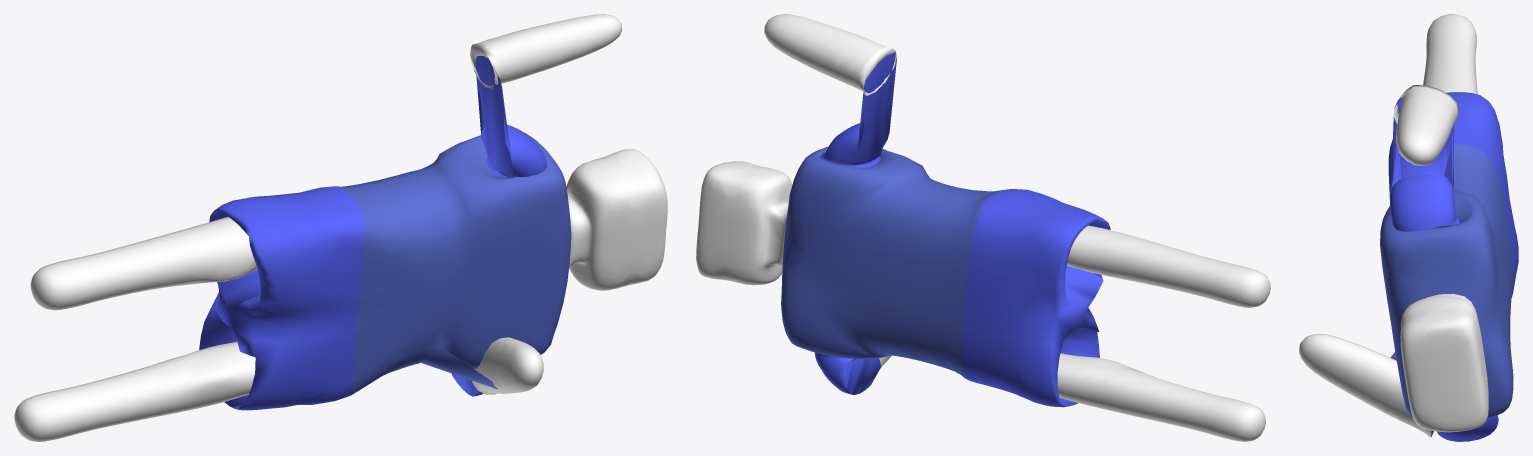
Rendered from Charles.obj.
3 renders of one model, left to right at view 1: azimuth 30°, elevation 25°; view 2: azimuth 150°, elevation 25°; view 3: azimuth 270°, elevation 25°, orthographic. The views are drawn at different scales.
Parts seen in each view (by area): view 1: Mesh1 Model; view 2: Mesh1 Model; view 3: Mesh1 Model.
Part boxes in pixels (x1=…): Mesh1 Model: x1=14, y1=14, x2=667, y2=441; Mesh1 Model: x1=696, y1=14, x2=1270, y2=441; Mesh1 Model: x1=1299, y1=14, x2=1518, y2=441.
Bounding box in the file's own units: 1595 × 908 × 506.
